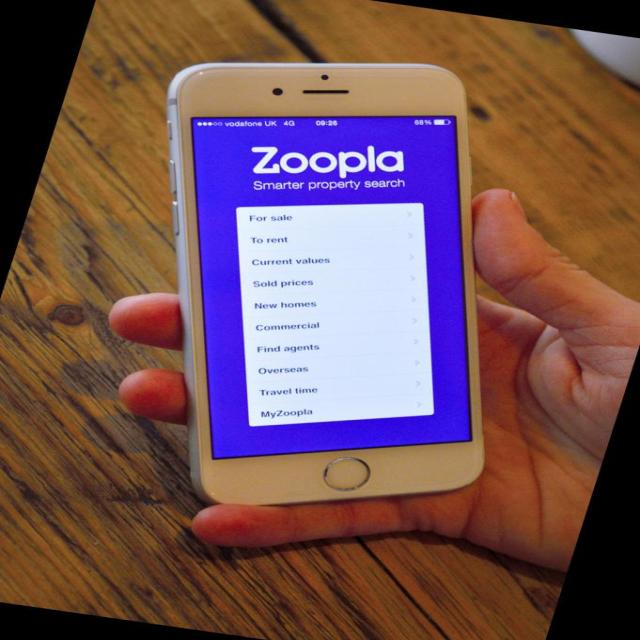handphone: (172, 62, 480, 511)
